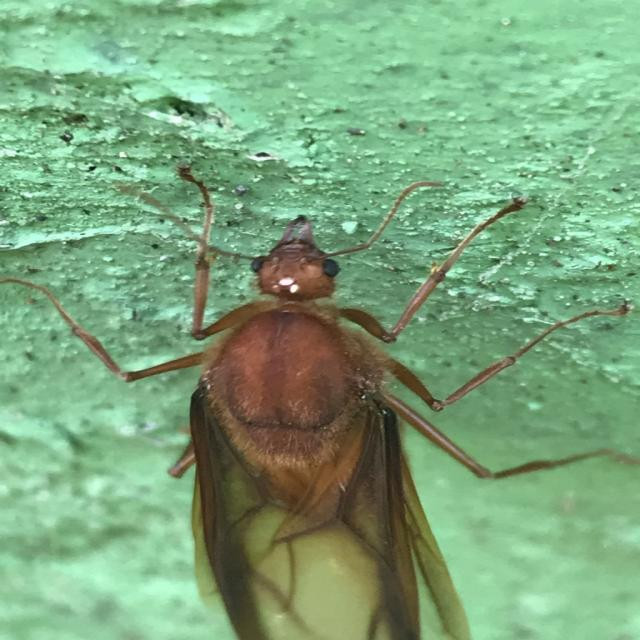Alive-Male-Alate: (0, 150, 640, 640)
